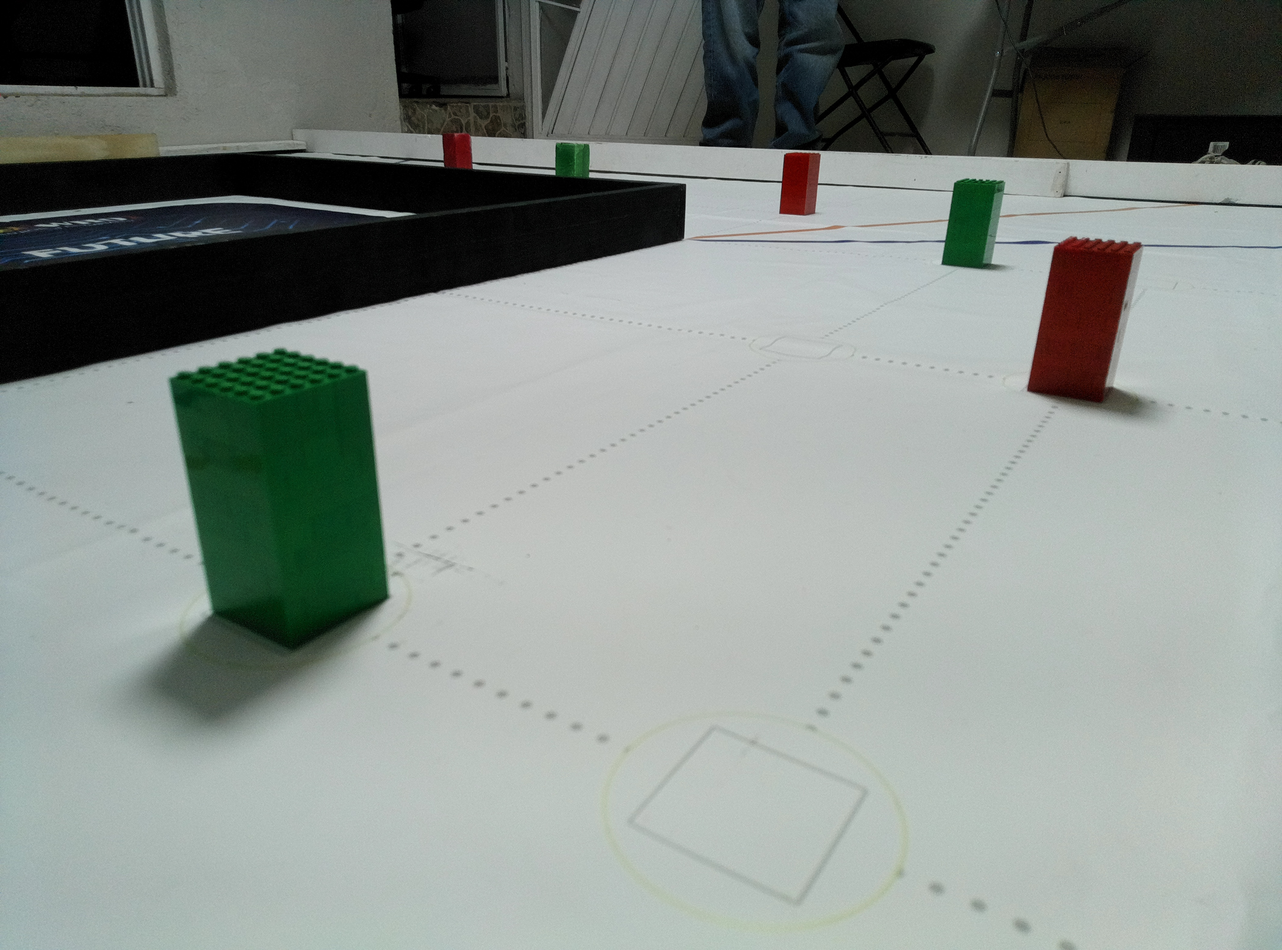greenbox: (163, 353, 394, 652), (940, 178, 1006, 269), (555, 142, 590, 178)
redbox: (1029, 232, 1144, 406), (779, 151, 821, 216), (441, 131, 473, 169)
